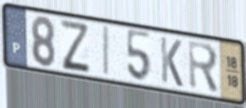5: (125, 27, 153, 85)
8: (30, 14, 57, 69)
I: (102, 25, 111, 79)
K: (159, 34, 184, 89)
R: (187, 38, 221, 97)
Z: (58, 18, 92, 74)
